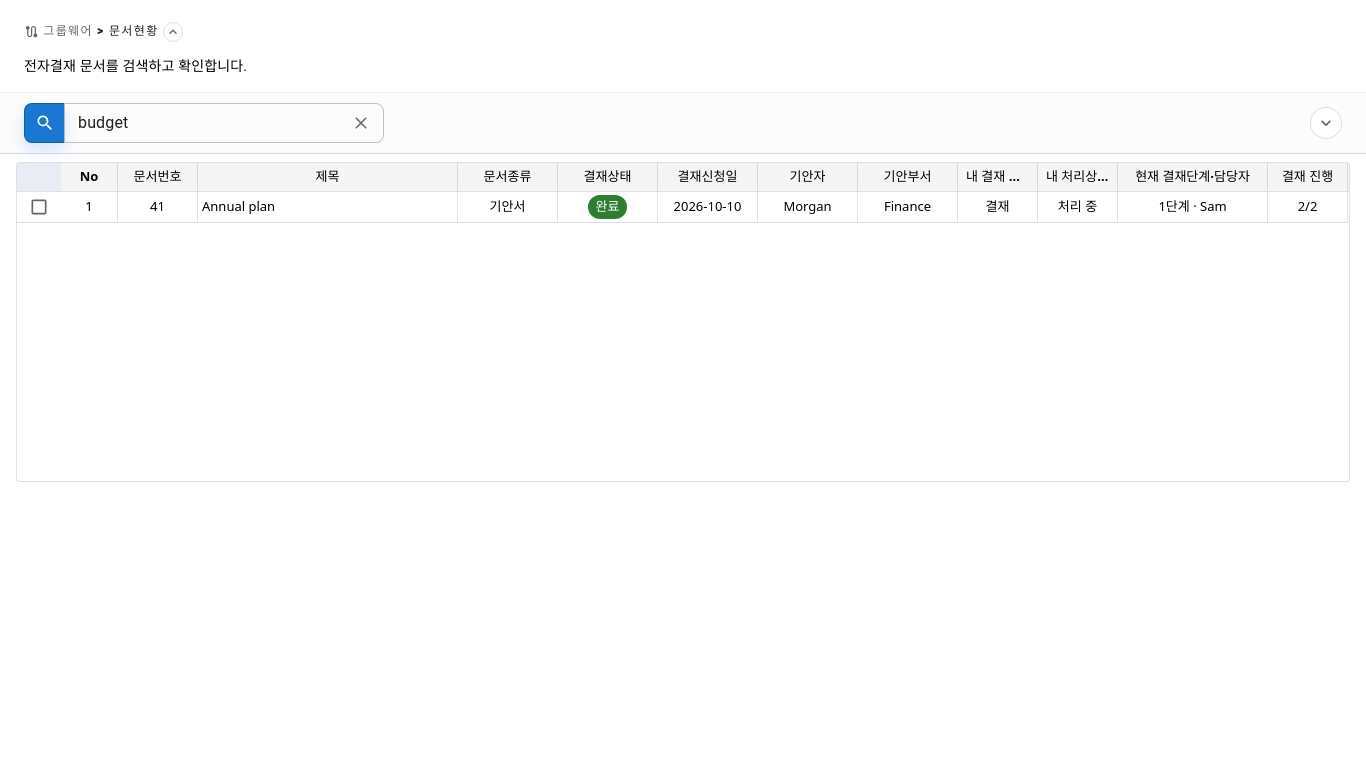
it: document status page › restores the last applied quick and detailed search when returning to the page
This screenshot has width=1366, height=768.
Expected: the text "41" is shown, top-left (150, 197), bottom-right (165, 215)
Expected: the field named "문서현황 빠른 검색" holds "budget", top-left (64, 103), bottom-right (349, 143)
Click the button named "상세 검색 열기" at (1326, 123), box top-left (1310, 107), bottom-right (1342, 139)
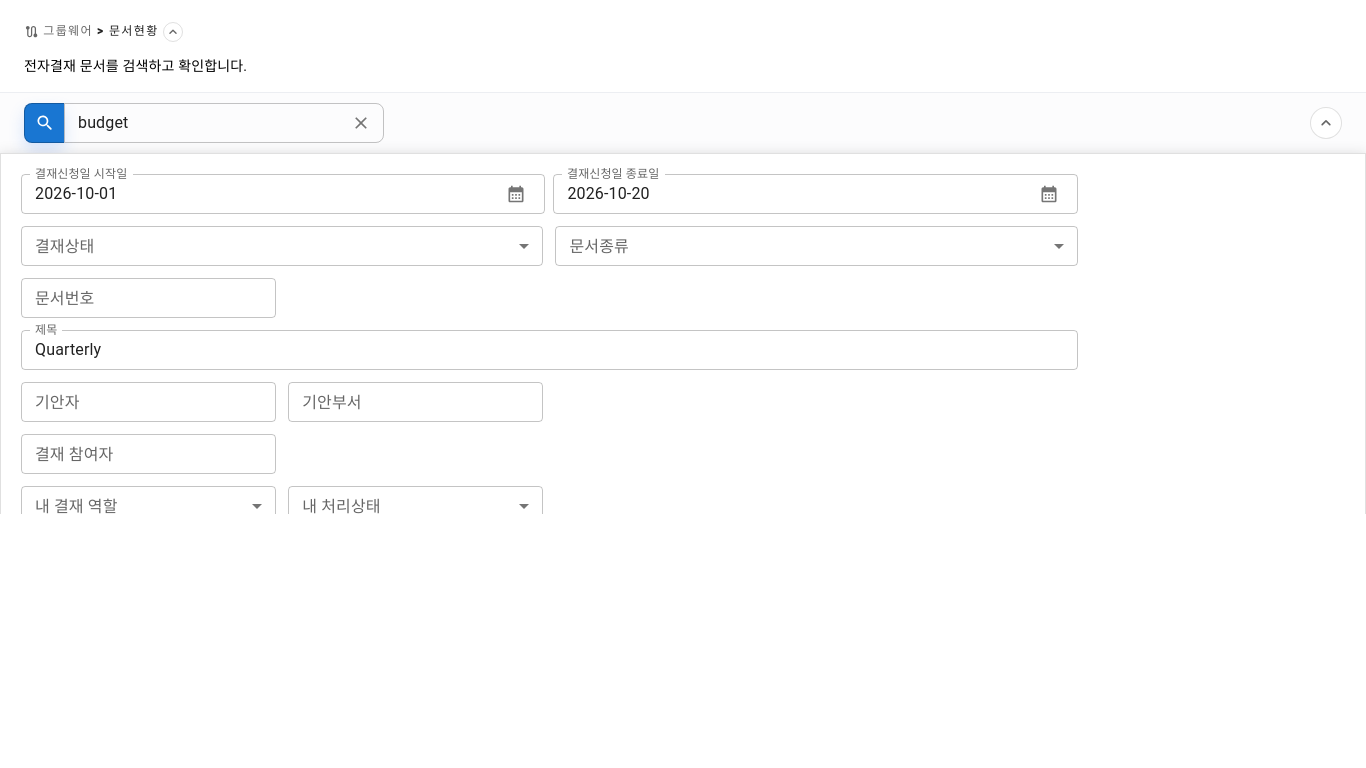
Expected: the field labelled "제목" holds "Quarterly", top-left (21, 330), bottom-right (1078, 370)
